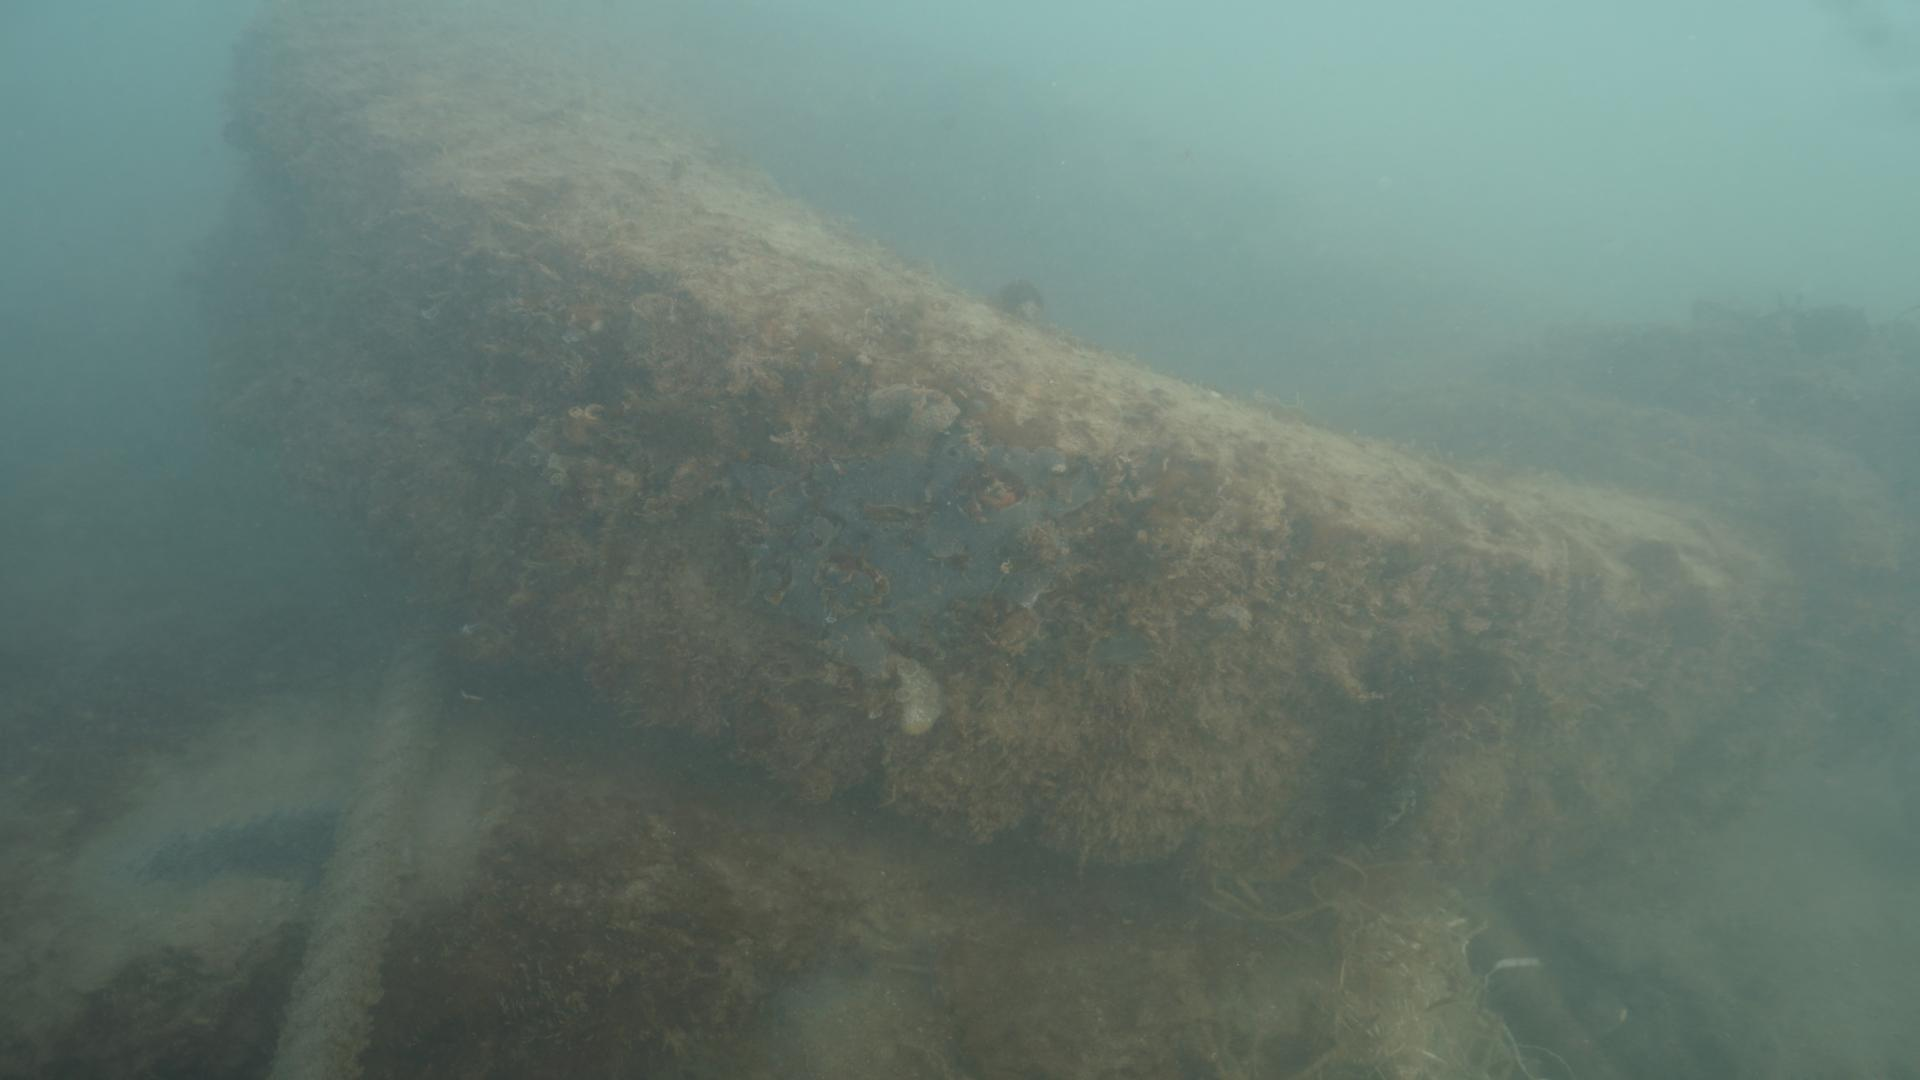bundle of ropes: (266, 618, 454, 1079)
